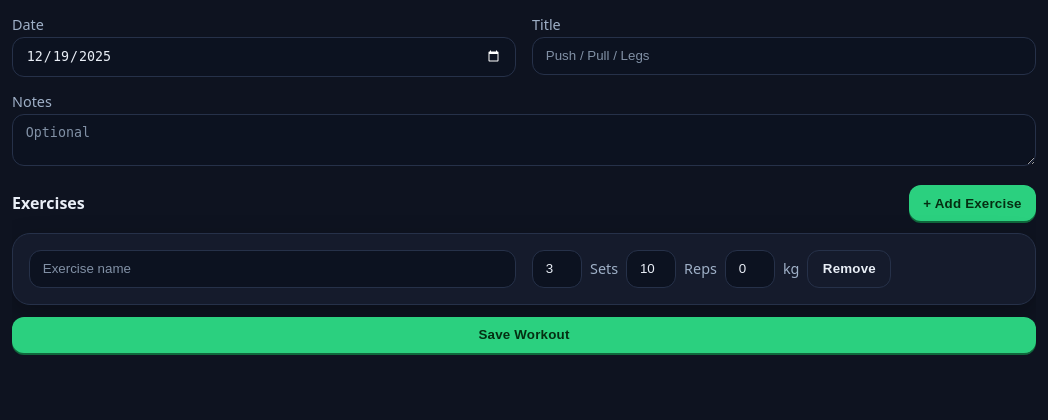
Scenario: WorkoutForm.vue Tests › 1. shows error if Title is too short
The image size is (1048, 420).
In the field with placeholder "Push / Pull / Legs": (784, 56) [532, 37, 1036, 75], type "A"
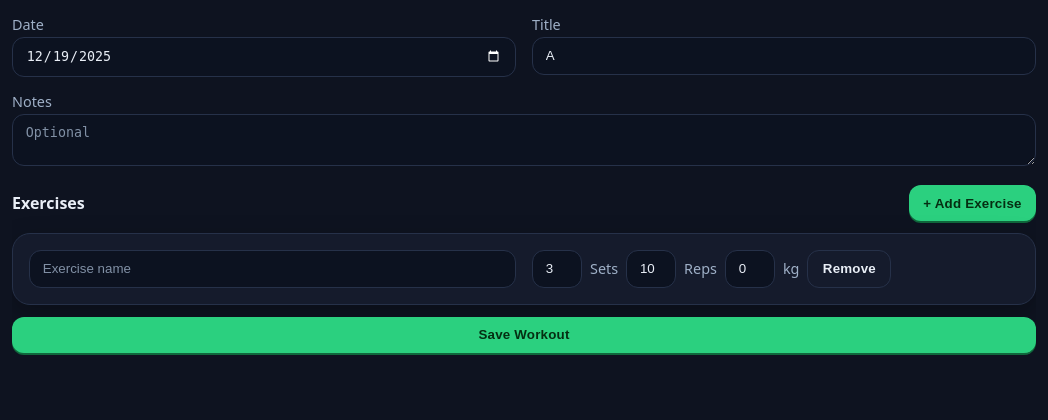
Submit the form
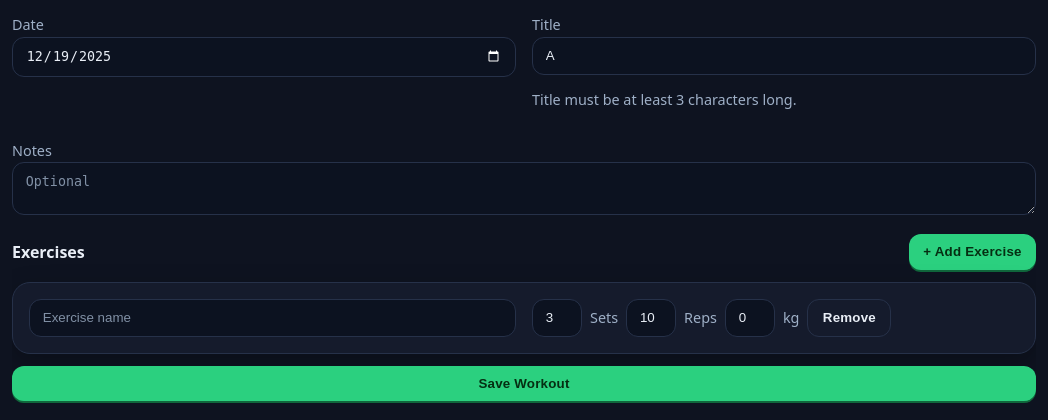
Expected: the text with class "error-message" shows "at least 3 characters", [532, 90, 796, 109]
